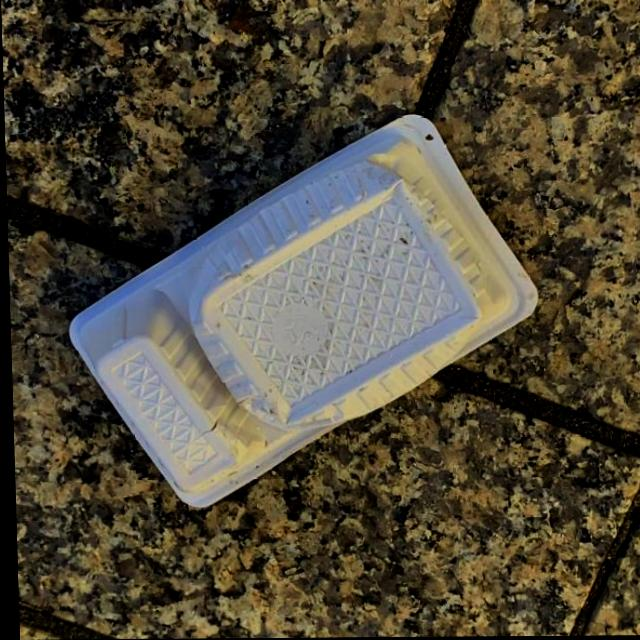Plastic: (53, 110, 546, 513)
